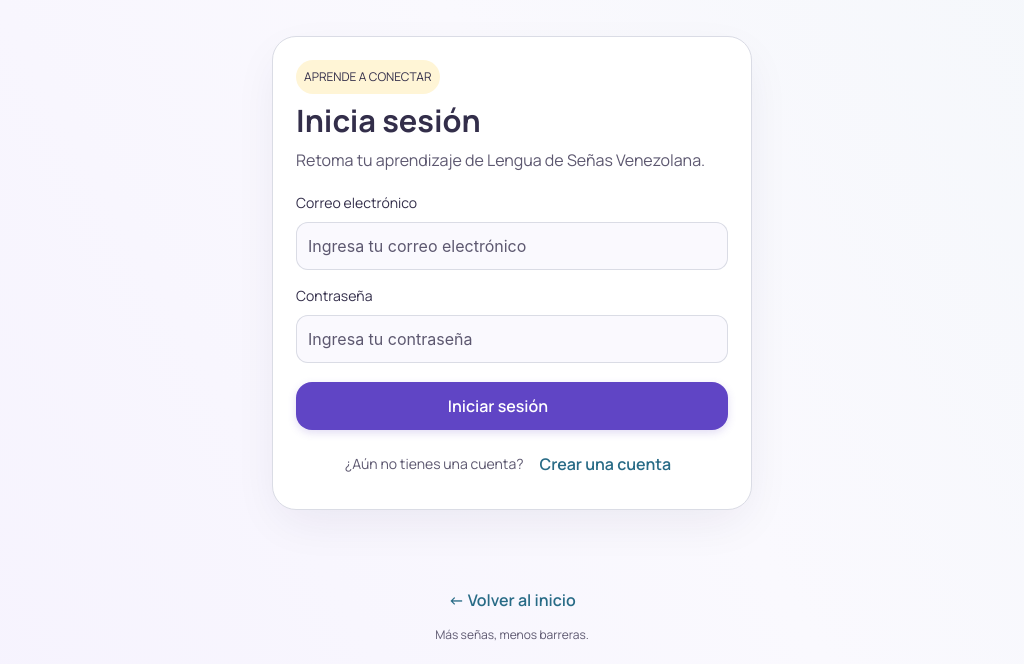
Test: protege acceso directo y vuelve a Mis módulos tras login con sesión real del proveedor
This screenshot has width=1024, height=664.
Expected: the heading "Inicia sesión" is shown, [296,102,481,139]
Type "person@example.com" into the field labelled "Correo electrónico" at (512, 246), box [308,234,716,258]
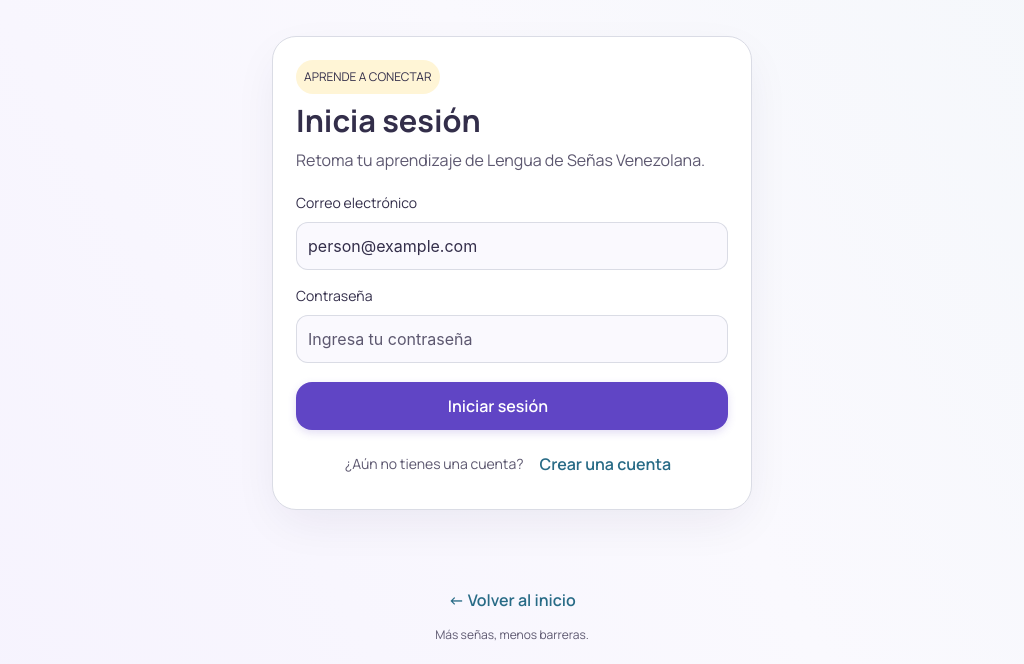
Type "valid password" into the password field labelled "Contraseña" at (491, 339), box [308,327,674,351]
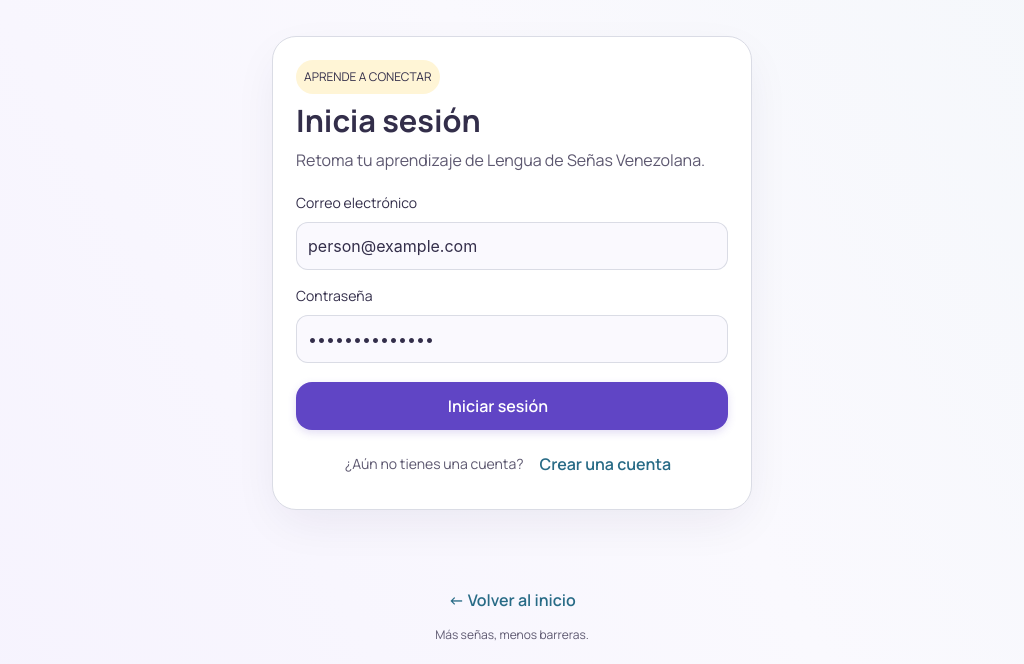
Submit the form "Inicia sesión", box [272,36,752,510]
(page scrolled)
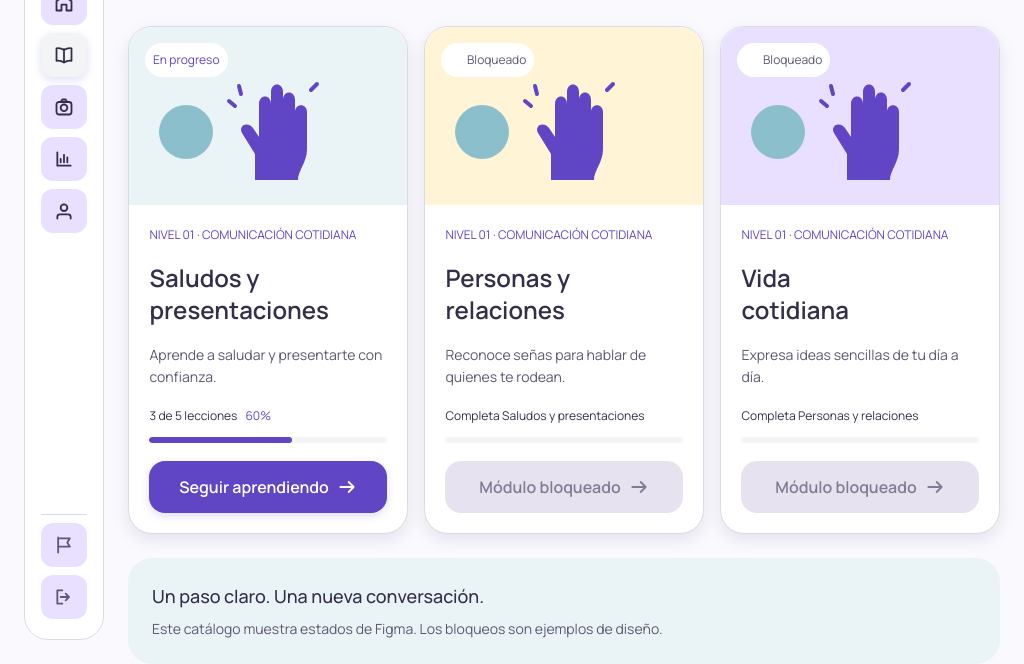
Expected: the element "Saludos y presentaciones" is shown, [128,26,408,534]
